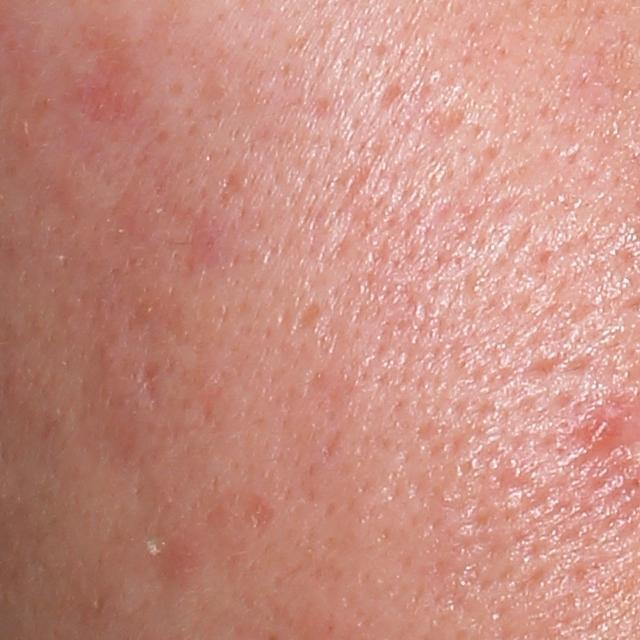atrophic_scar: (424, 104, 470, 141), (243, 494, 279, 541), (133, 357, 164, 411), (289, 297, 324, 337), (377, 78, 402, 111)
papule: (158, 526, 207, 583), (579, 414, 616, 455)
